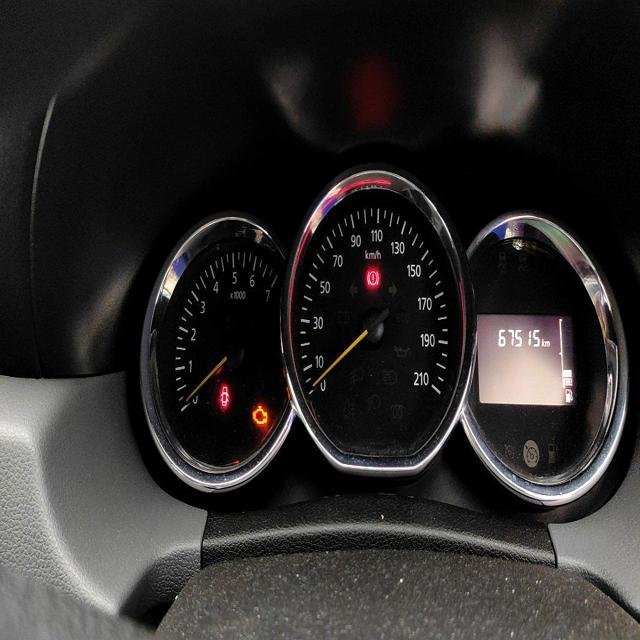odometer: (496, 325, 542, 352)
